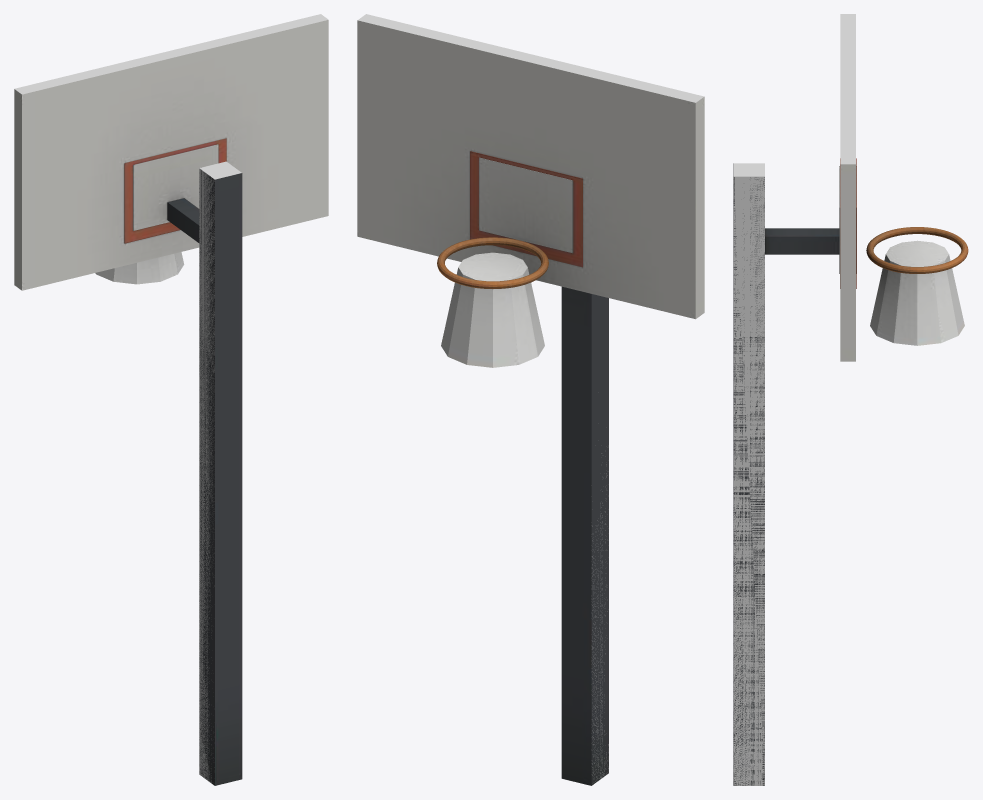
File: basketball_hoop.glb
3 views of the same model, side by side, from view 1: azimuth 30°, elevation 25°; view 2: azimuth 150°, elevation 25°; view 3: azimuth 270°, elevation 25° (orthographic). The views are drawn at different scales.
Parts seen in each view (by area): view 1: Hoop, COL_Post, COL_Board; view 2: Hoop, COL_Board; view 3: Hoop, COL_Post, COL_Board.
Boxes of the visible parts, bbox=[...] form: Hoop: bbox=[14, 20, 328, 785]; COL_Post: bbox=[199, 161, 241, 782]; COL_Board: bbox=[14, 14, 328, 94]; Hoop: bbox=[357, 20, 704, 785]; COL_Board: bbox=[358, 14, 703, 102]; Hoop: bbox=[733, 158, 968, 785]; COL_Post: bbox=[733, 163, 764, 785]; COL_Board: bbox=[840, 14, 855, 164].
Bounding box in the file's own units: 1.8 × 3.85 × 1.19.
Materials: 5 (5 with a texture image).
